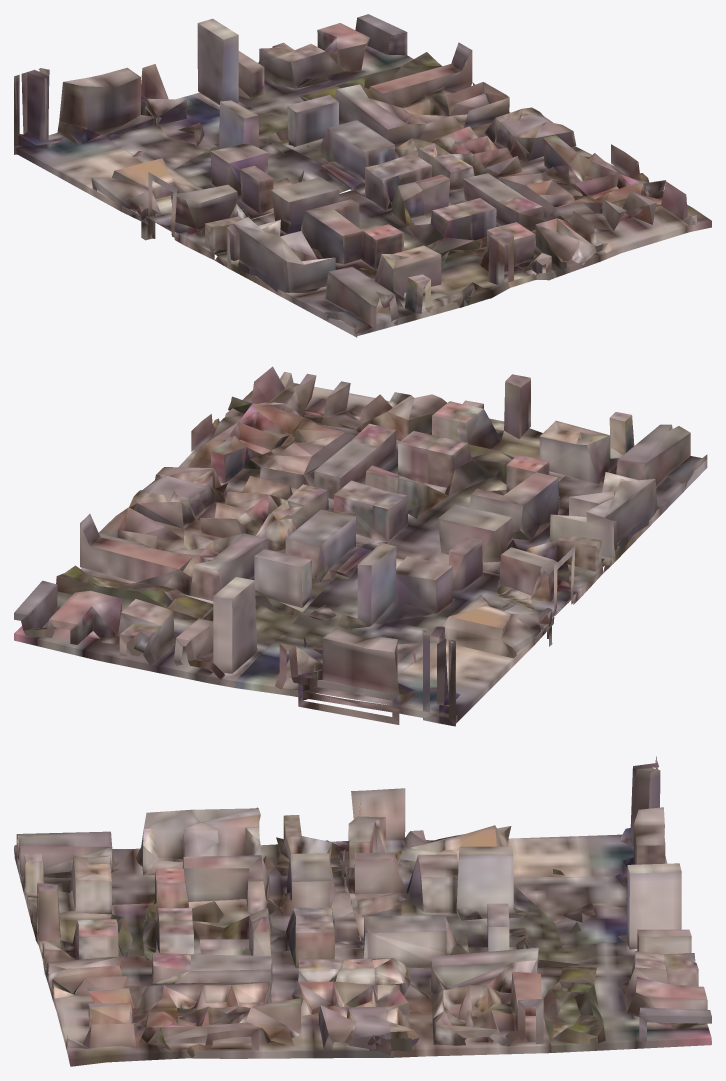
3 views of the same model, one above another, from view 1: azimuth 30°, elevation 25°; view 2: azimuth 150°, elevation 25°; view 3: azimuth 270°, elevation 25° (orthographic). The views are drawn at different scales.
Visible parts, largest first — view 1: Mesh_0; view 2: Mesh_0; view 3: Mesh_0.
Part boxes in pixels (box(x1,y1,x2,y2)): Mesh_0: box(14, 14, 711, 337); Mesh_0: box(14, 366, 707, 726); Mesh_0: box(14, 756, 711, 1066).
Bounding box in the file's own units: 532 × 104 × 660.
2 materials, 2 textured.
